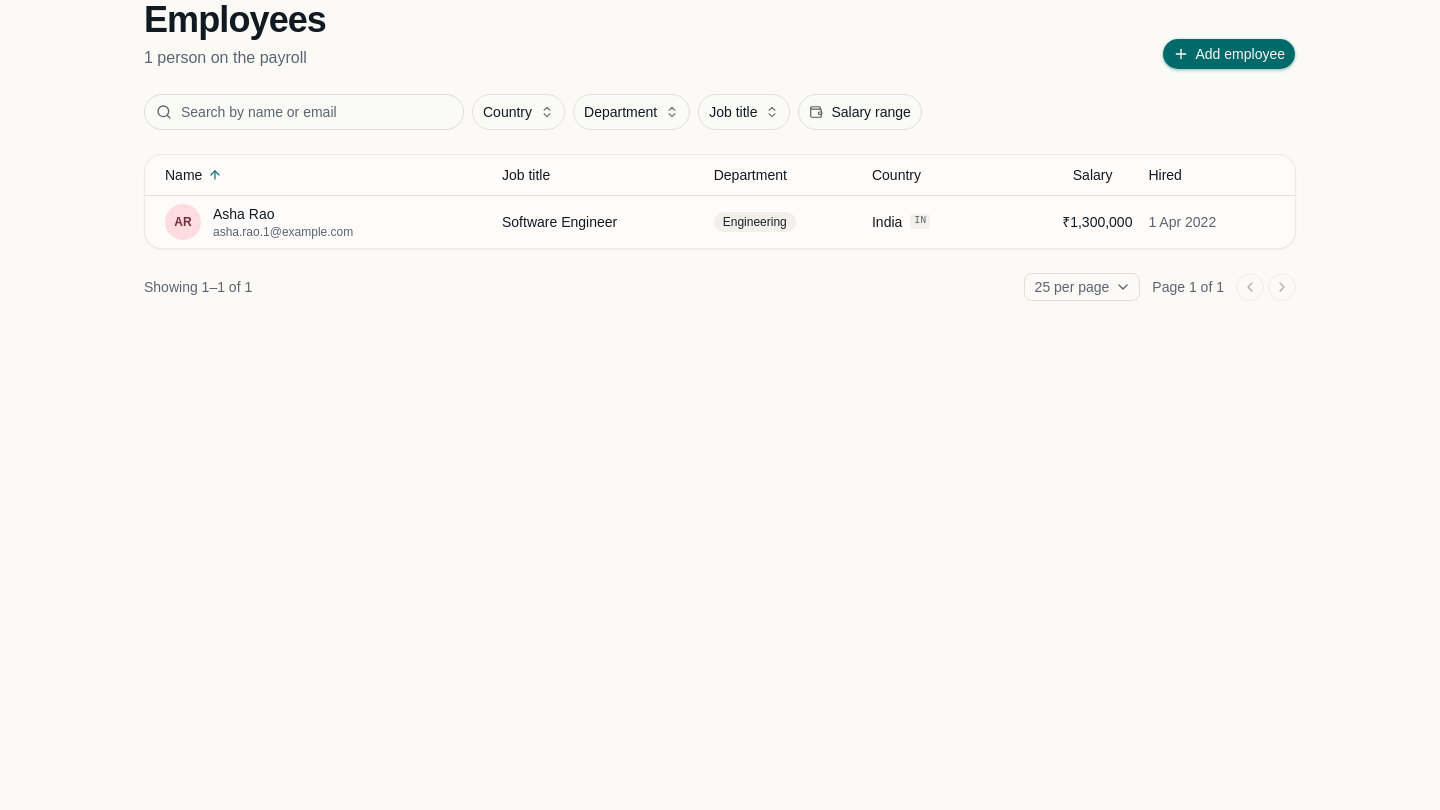
adding and editing › saving an empty form explains what is missing and sends nothing
Expected: the button "Asha Rao" is shown, [213,204,274,224]
Click the button "Add employee".
click(1229, 54)  # box [1162,38,1296,70]
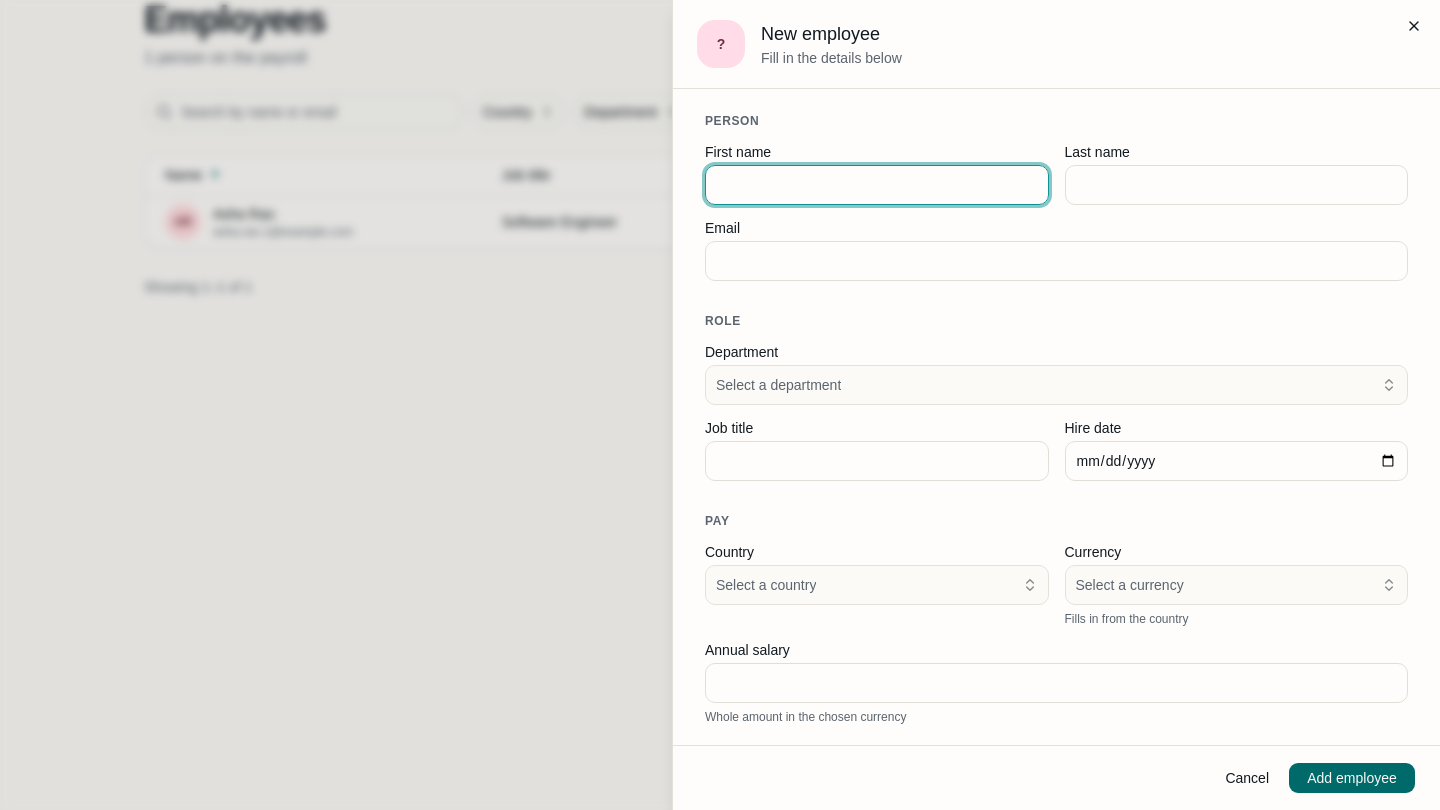
Click the button "Add employee".
click(1352, 778)  # box [1288,762,1416,794]
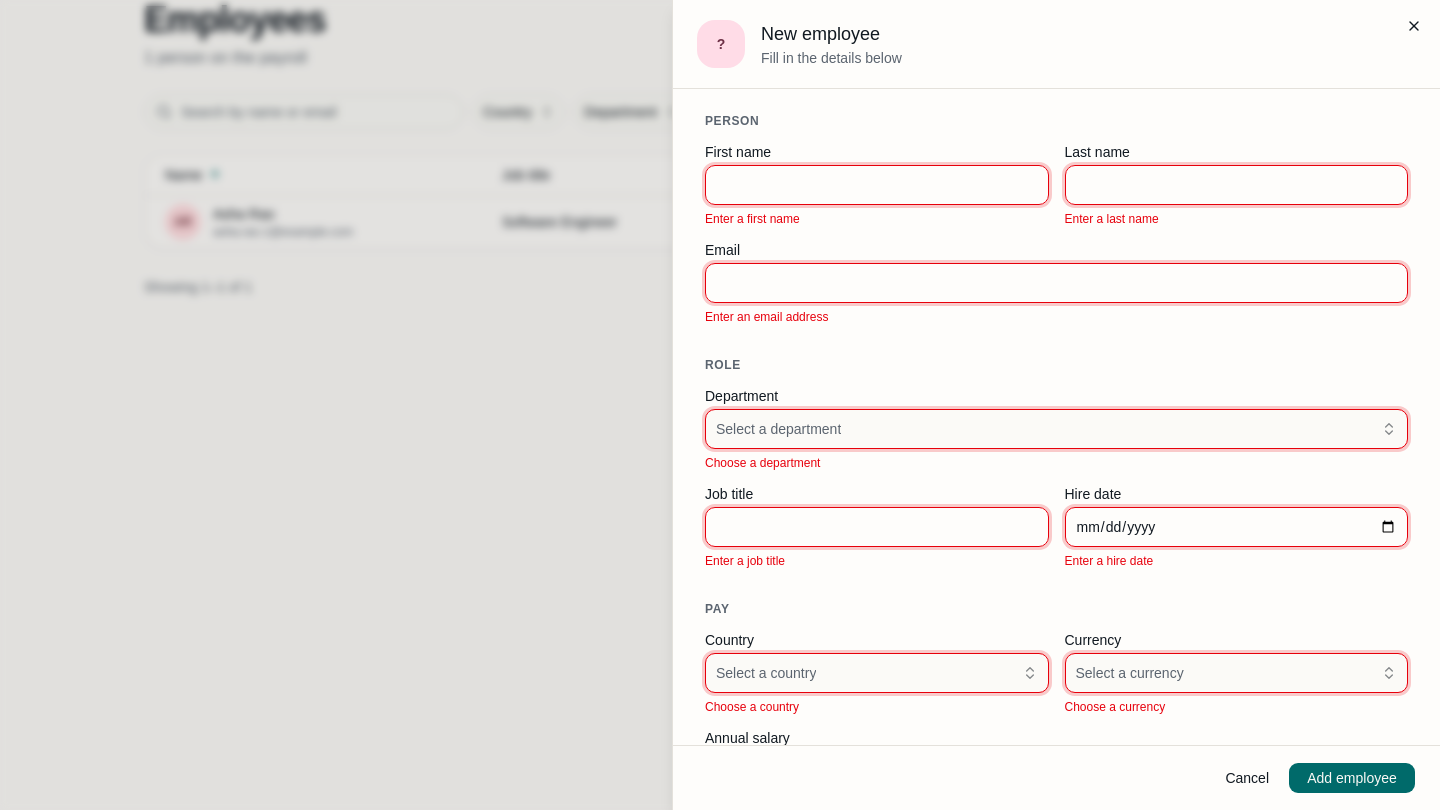
Expected: the text "Enter a first name" is shown, [705,212,800,226]
Expected: the text "Enter a last name" is shown, [1064,212,1159,226]
Expected: the text "Enter an email address" is shown, [705,310,828,324]
